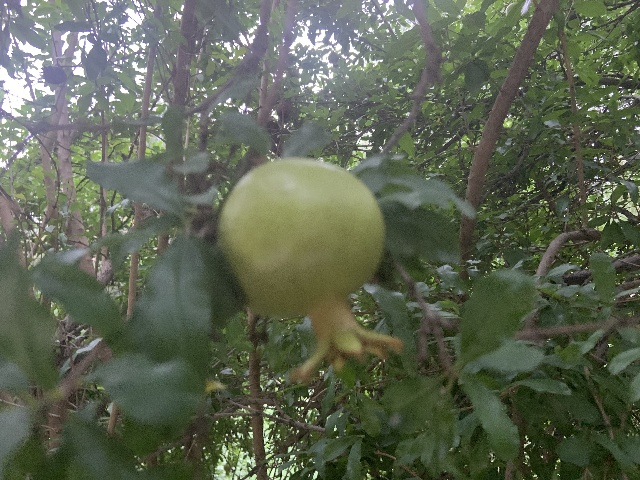mid-growth: (217, 157, 403, 383)
